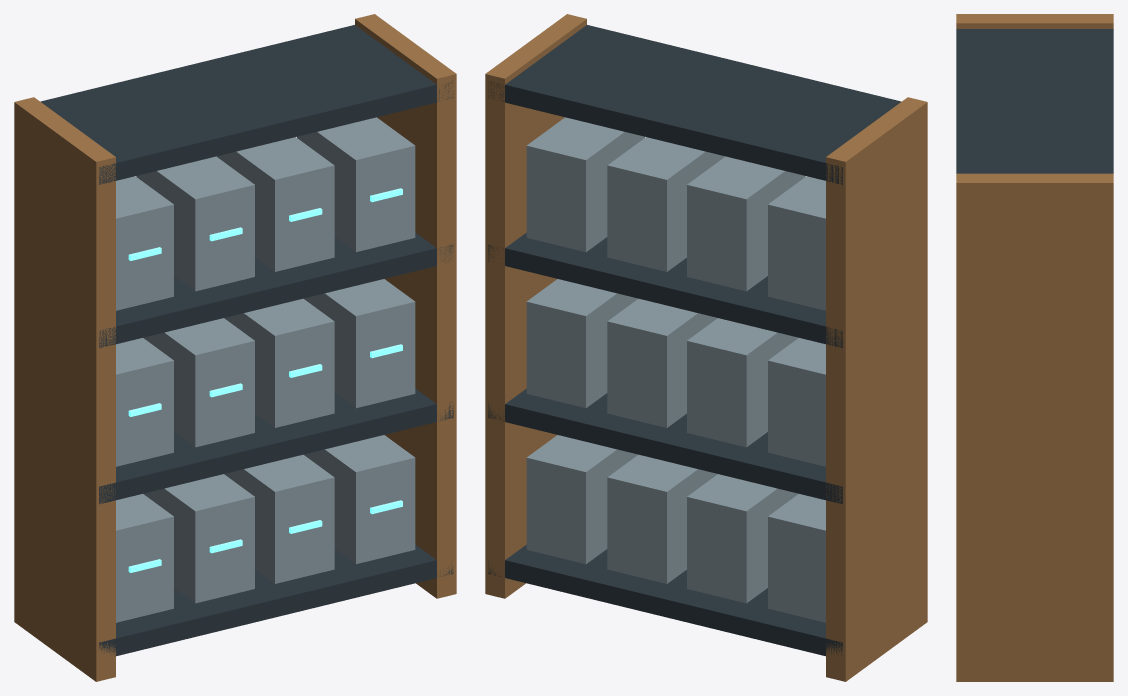
File: archive-shelf.lod2.glb
3 views of the same model, side by side, from view 1: azimuth 30°, elevation 25°; view 2: azimuth 150°, elevation 25°; view 3: azimuth 270°, elevation 25° (orthographic). The views are drawn at different scales.
Visible parts, largest first — view 1: structure; view 2: structure; view 3: structure.
Boxes of the visible parts, x1,y1,x2,y2 form: structure: (14,14,456,681); structure: (485,14,927,681); structure: (956,14,1113,681).
Bounding box in the file's own units: 2.54 × 3.5 × 1.
